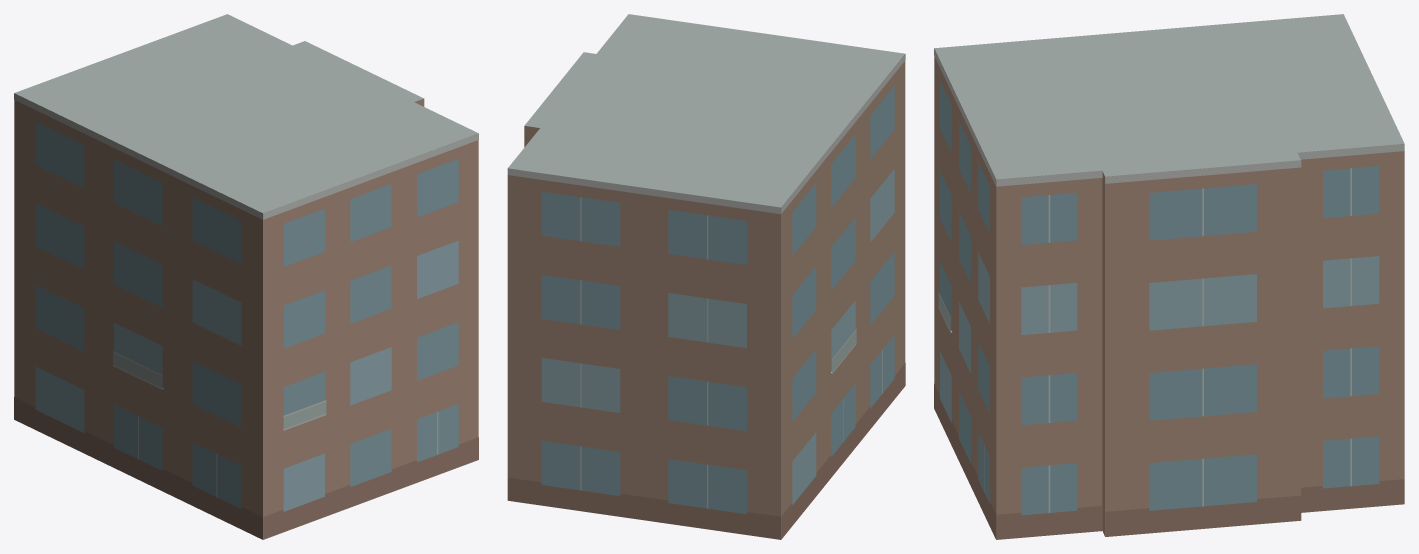
Rendered from survey-upis-32707336.glb.
3 renders of one model, left to right at view 1: azimuth 30°, elevation 25°; view 2: azimuth 150°, elevation 25°; view 3: azimuth 270°, elevation 25°, orthographic. The views are drawn at different scales.
Visible parts, largest first — view 1: survey-upis-32707336.tmp; view 2: survey-upis-32707336.tmp; view 3: survey-upis-32707336.tmp.
Part boxes in pixels (x1,y1,x2,y2): survey-upis-32707336.tmp: (14, 14, 478, 539); survey-upis-32707336.tmp: (507, 14, 905, 539); survey-upis-32707336.tmp: (934, 14, 1404, 539).
Bounding box in the file's own units: 12.03 × 12.2 × 14.45.
